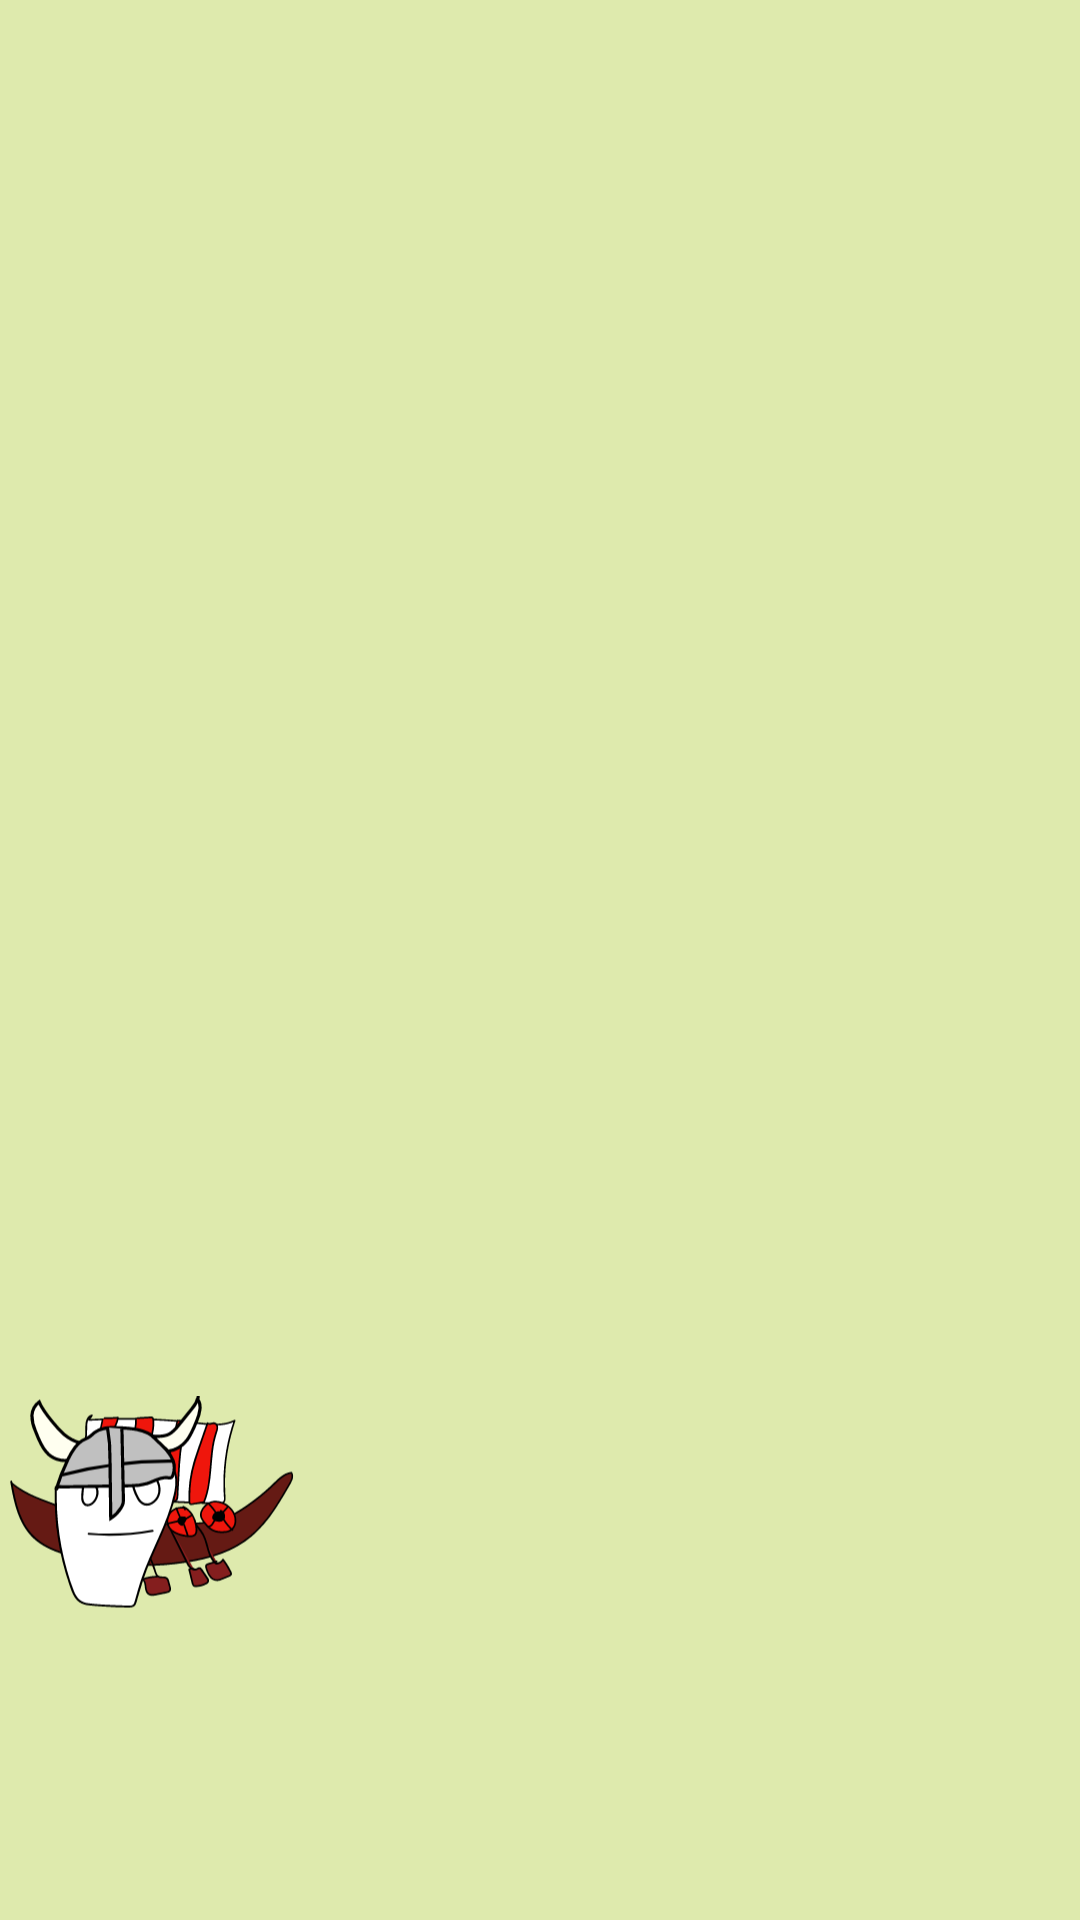

Icons on this 1080*1920 Android screen, each with the point to tap as (x=x, y=y):
viking: (x=151, y=1502)
